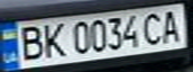0: (87, 16, 109, 52), (69, 18, 90, 55)
3: (106, 15, 127, 51)
4: (121, 12, 145, 48)
A: (157, 7, 187, 44)
B: (12, 23, 48, 62)
C: (139, 9, 169, 46)
K: (36, 20, 69, 58)
